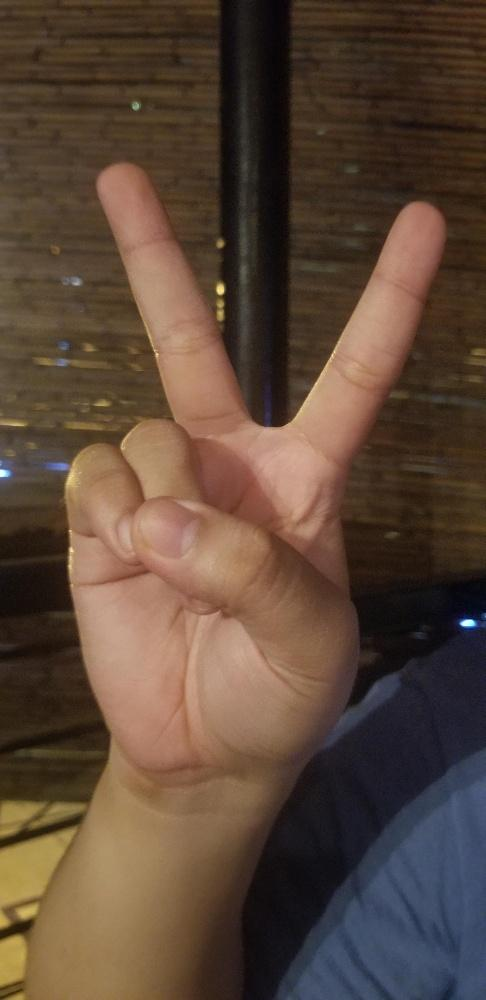v: (60, 161, 445, 760)
